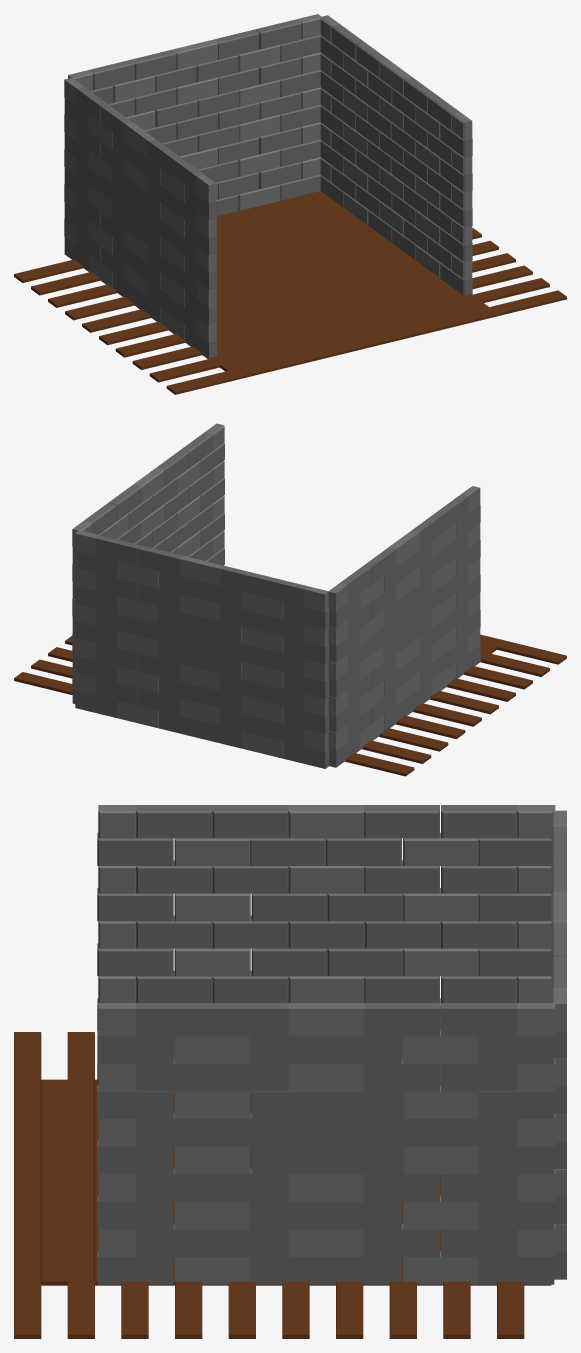
File: GameOVER.fbx
The picture shows the model from 3 angles, top to bottom: view 1: azimuth 30°, elevation 25°; view 2: azimuth 150°, elevation 25°; view 3: azimuth 270°, elevation 25°; orthographic projection. The views are drawn at different scales.
Parts seen in each view (by area): view 1: Cube.275, Cube.276, Cube.277, Cube.270, Cube.272, Cube.265, Cube.273, Cube.267, Cube.274, Cube.256, Cube.261, Cube.271 (+89 smaller); view 2: Cube.003, Cube.573, Cube.567, Cube.275, Cube.566, Cube.568, Cube.007, Cube.009, Cube.008, Cube.048, Cube.010, Cube.270 (+113 smaller); view 3: Cube.272, Cube.277, Cube.274, Cube.270, Cube.275, Cube.271, Cube.273, Cube.276, Cube.070, Cube.135, Cube.071, Cube.076 (+115 smaller).
Boxes of the visible parts, x1,y1,x2,y2 form: Cube.275: (166, 354, 305, 394); Cube.276: (298, 322, 436, 362); Cube.277: (428, 290, 566, 330); Cube.270: (149, 341, 288, 382); Cube.272: (411, 278, 549, 315); Cube.265: (132, 329, 271, 369); Cube.273: (220, 333, 358, 371); Cube.267: (394, 265, 532, 303); Cube.274: (350, 301, 488, 338); Cube.256: (230, 272, 367, 310); Cube.261: (247, 285, 384, 322); Cube.271: (280, 309, 418, 347); Cube.003: (95, 535, 141, 565); Cube.573: (137, 545, 182, 576); Cube.567: (220, 566, 265, 596); Cube.275: (480, 634, 566, 664); Cube.566: (262, 576, 307, 606); Cube.568: (179, 555, 224, 586); Cube.007: (283, 602, 329, 629); Cube.009: (283, 671, 329, 699); Cube.008: (283, 637, 329, 664); Cube.048: (283, 741, 329, 768); Cube.010: (283, 706, 329, 733); Cube.270: (480, 651, 549, 676); Cube.272: (67, 1233, 94, 1338); Cube.277: (14, 1233, 41, 1338); Cube.274: (41, 1180, 67, 1285); Cube.270: (67, 1032, 94, 1132); Cube.275: (14, 1032, 41, 1132); Cube.271: (68, 1132, 94, 1233); Cube.273: (41, 1079, 67, 1180); Cube.276: (14, 1132, 40, 1233); Cube.070: (136, 805, 212, 838); Cube.135: (136, 1003, 212, 1036); Cube.071: (212, 805, 288, 838); Cube.076: (441, 805, 517, 838).
Size of the model in its own units: 940 by 421 by 726.
